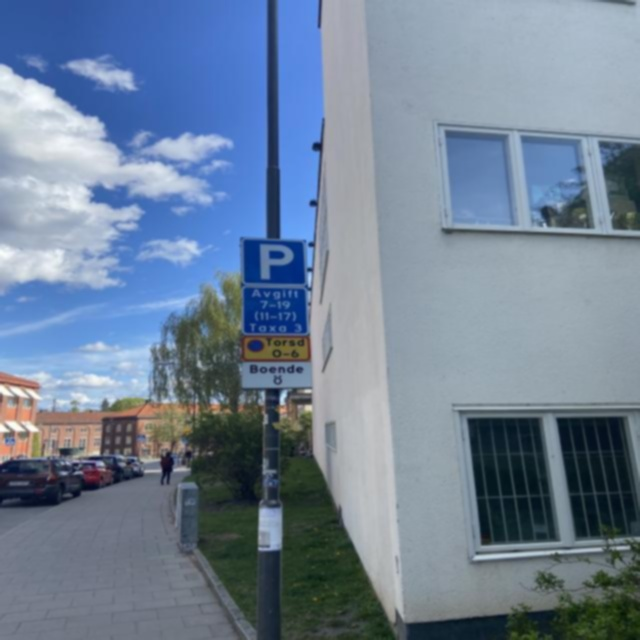P-skylt: (240, 239, 306, 286)
